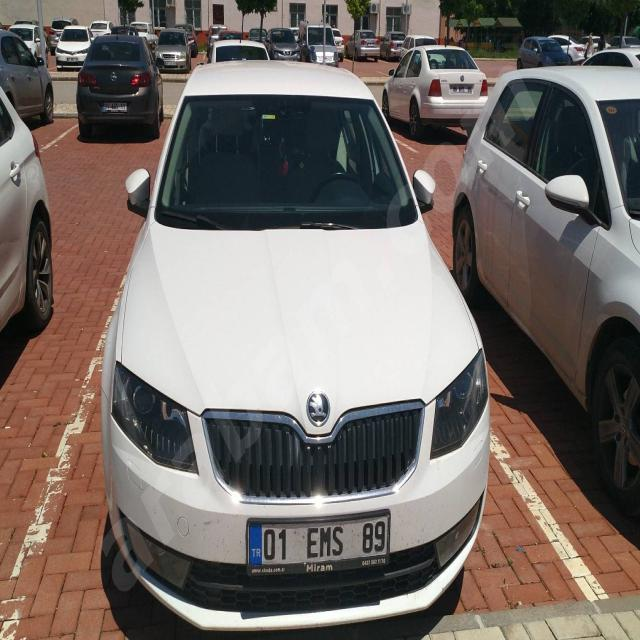license_plate: (247, 512, 390, 566), (101, 102, 127, 111), (451, 85, 472, 94)
